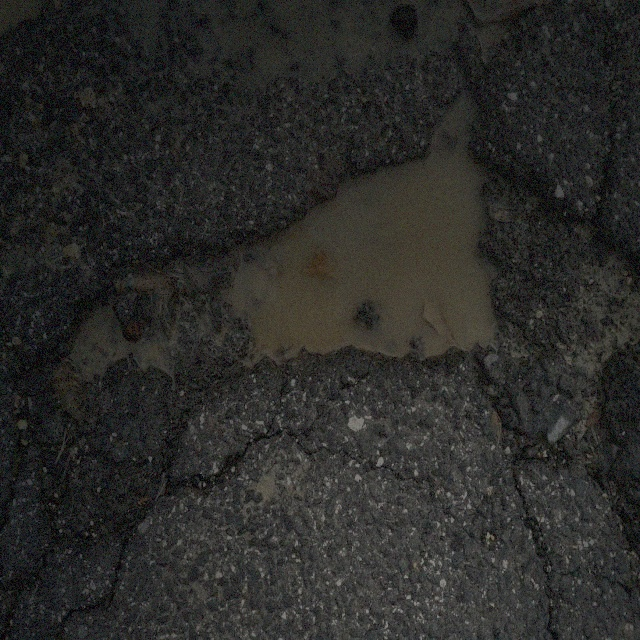pothole: (208, 83, 506, 376), (59, 277, 184, 402)
